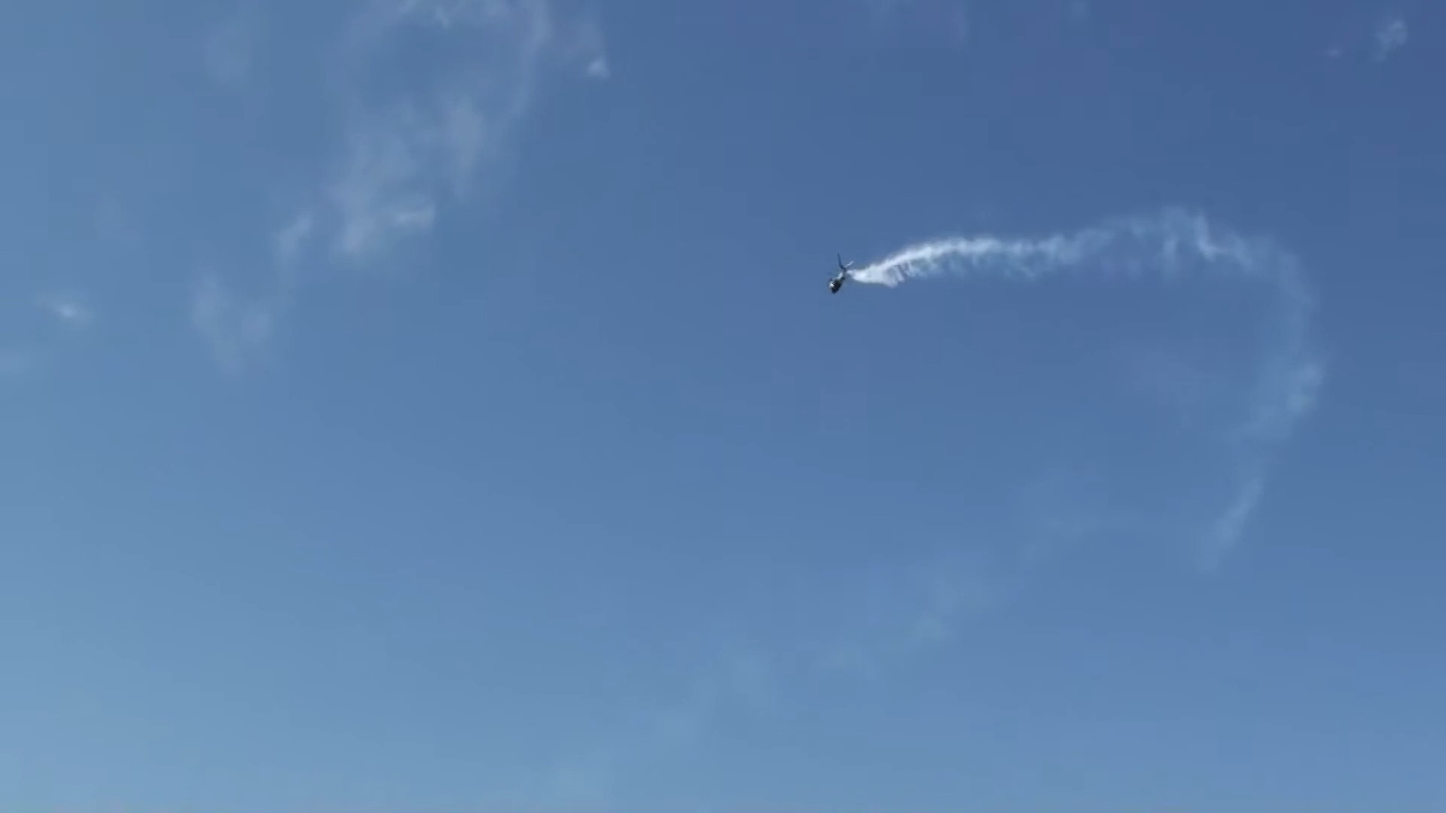not_drone: (821, 254, 856, 304)
